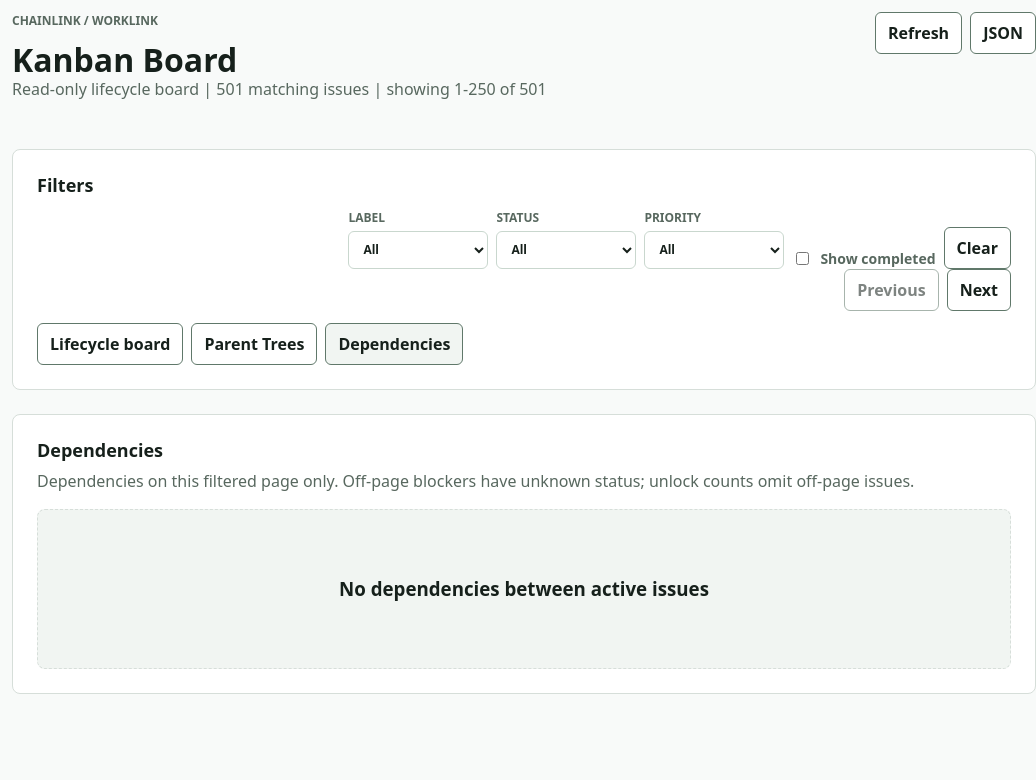
Scenario: ChainlinkBoardRoute queries › retrieves more than 250 issues with bounded pages and matching totals
This screenshot has width=1036, height=780.
Expected: the text "501 matching issues | showing 1-250 of 501" is shown, top-left (199, 78), bottom-right (547, 100)
Expected: the button "Previous" is disabled, top-left (844, 269), bottom-right (939, 311)
Click the button "Next": {"x": 979, "y": 290} top-left (947, 269), bottom-right (1011, 311)
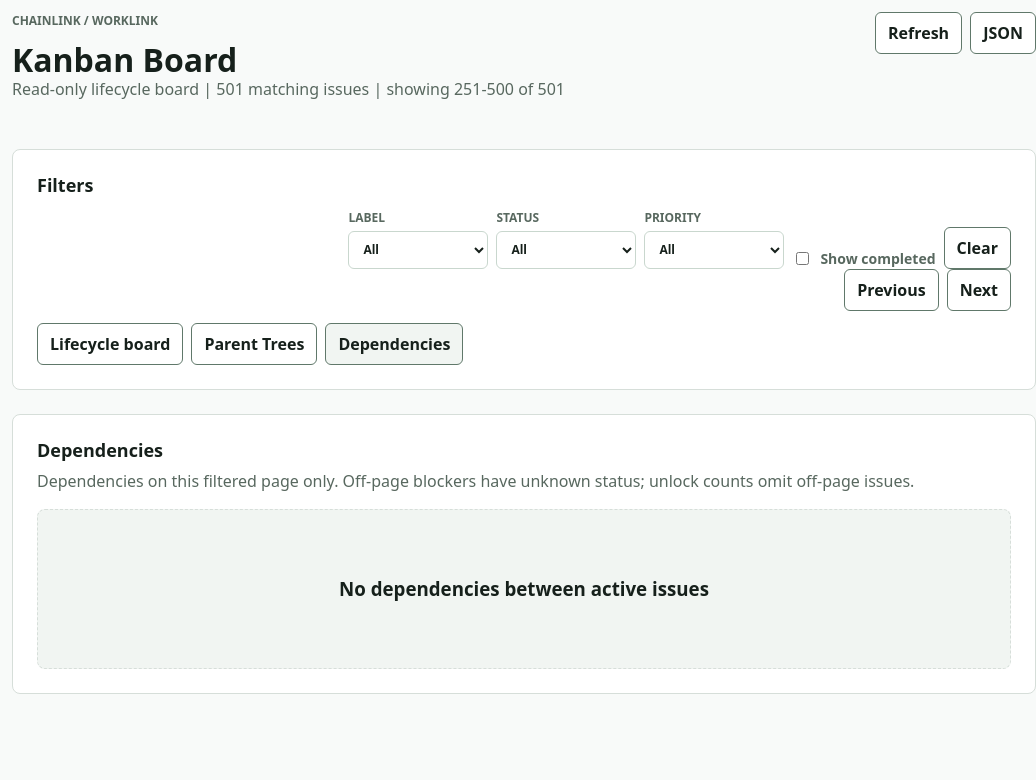
Expected: the text "501 matching issues | showing 251-500 of 501" is shown, top-left (199, 78), bottom-right (565, 100)
Click the button "Next": {"x": 979, "y": 290} top-left (947, 269), bottom-right (1011, 311)
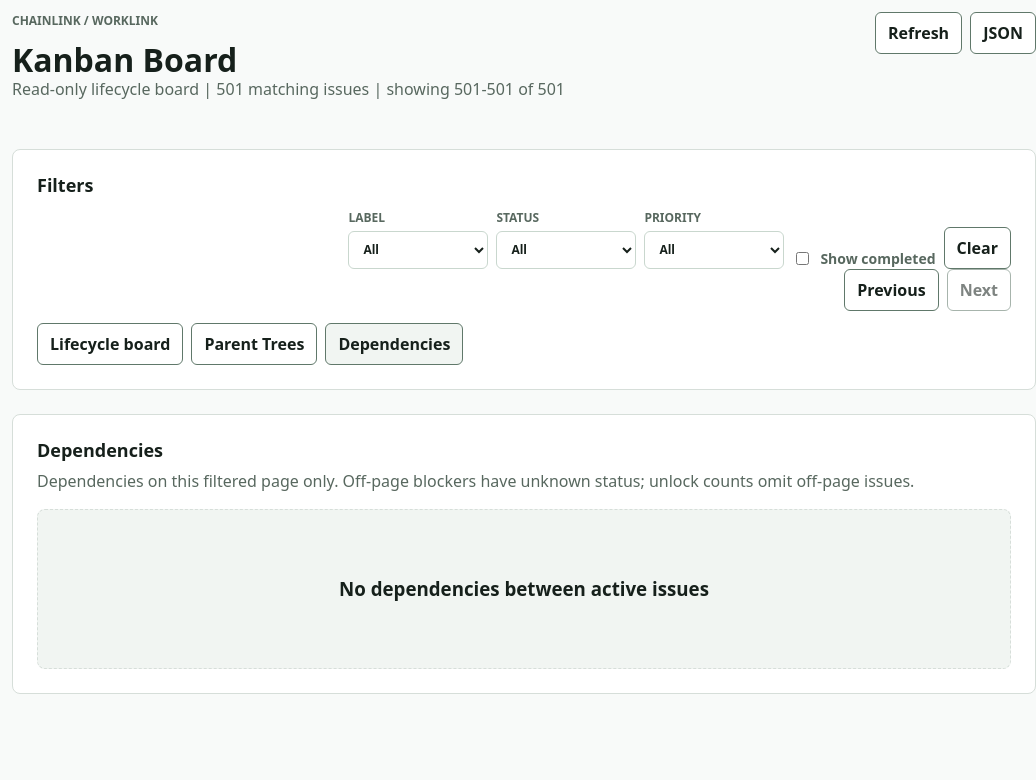
Expected: the text "501 matching issues | showing 501-501 of 501" is shown, top-left (199, 78), bottom-right (565, 100)
Expected: the button "Next" is disabled, top-left (947, 269), bottom-right (1011, 311)
Click the button "Previous": {"x": 891, "y": 290} top-left (844, 269), bottom-right (939, 311)
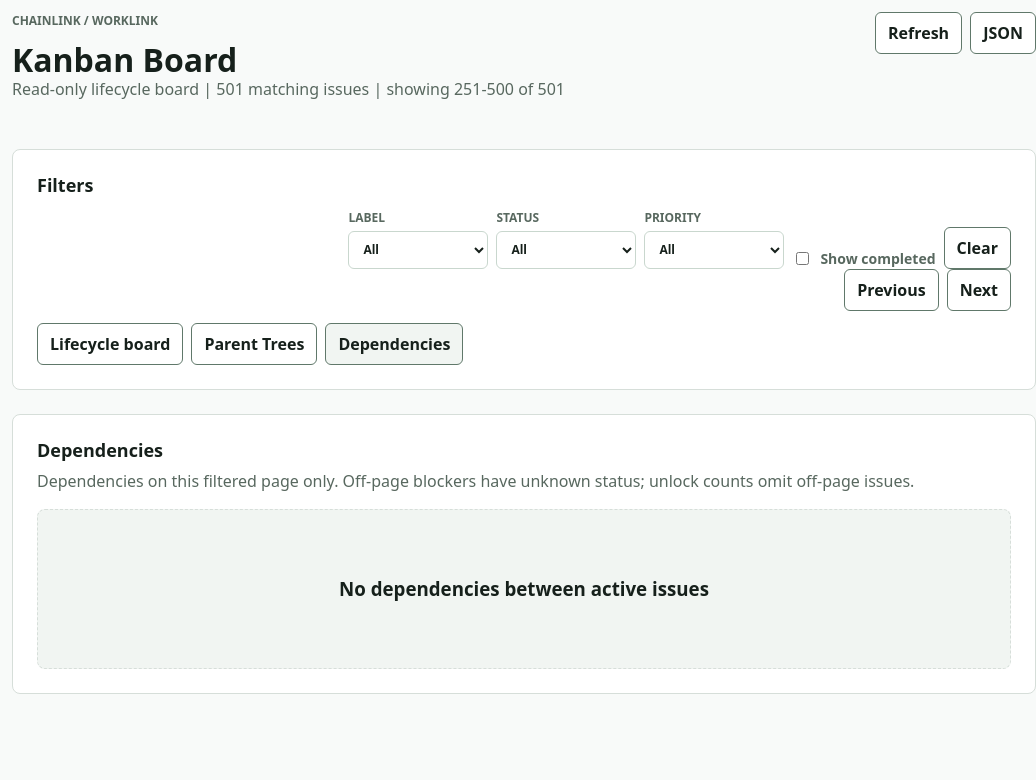
Expected: the text "501 matching issues | showing 251-500 of 501" is shown, top-left (199, 78), bottom-right (565, 100)
